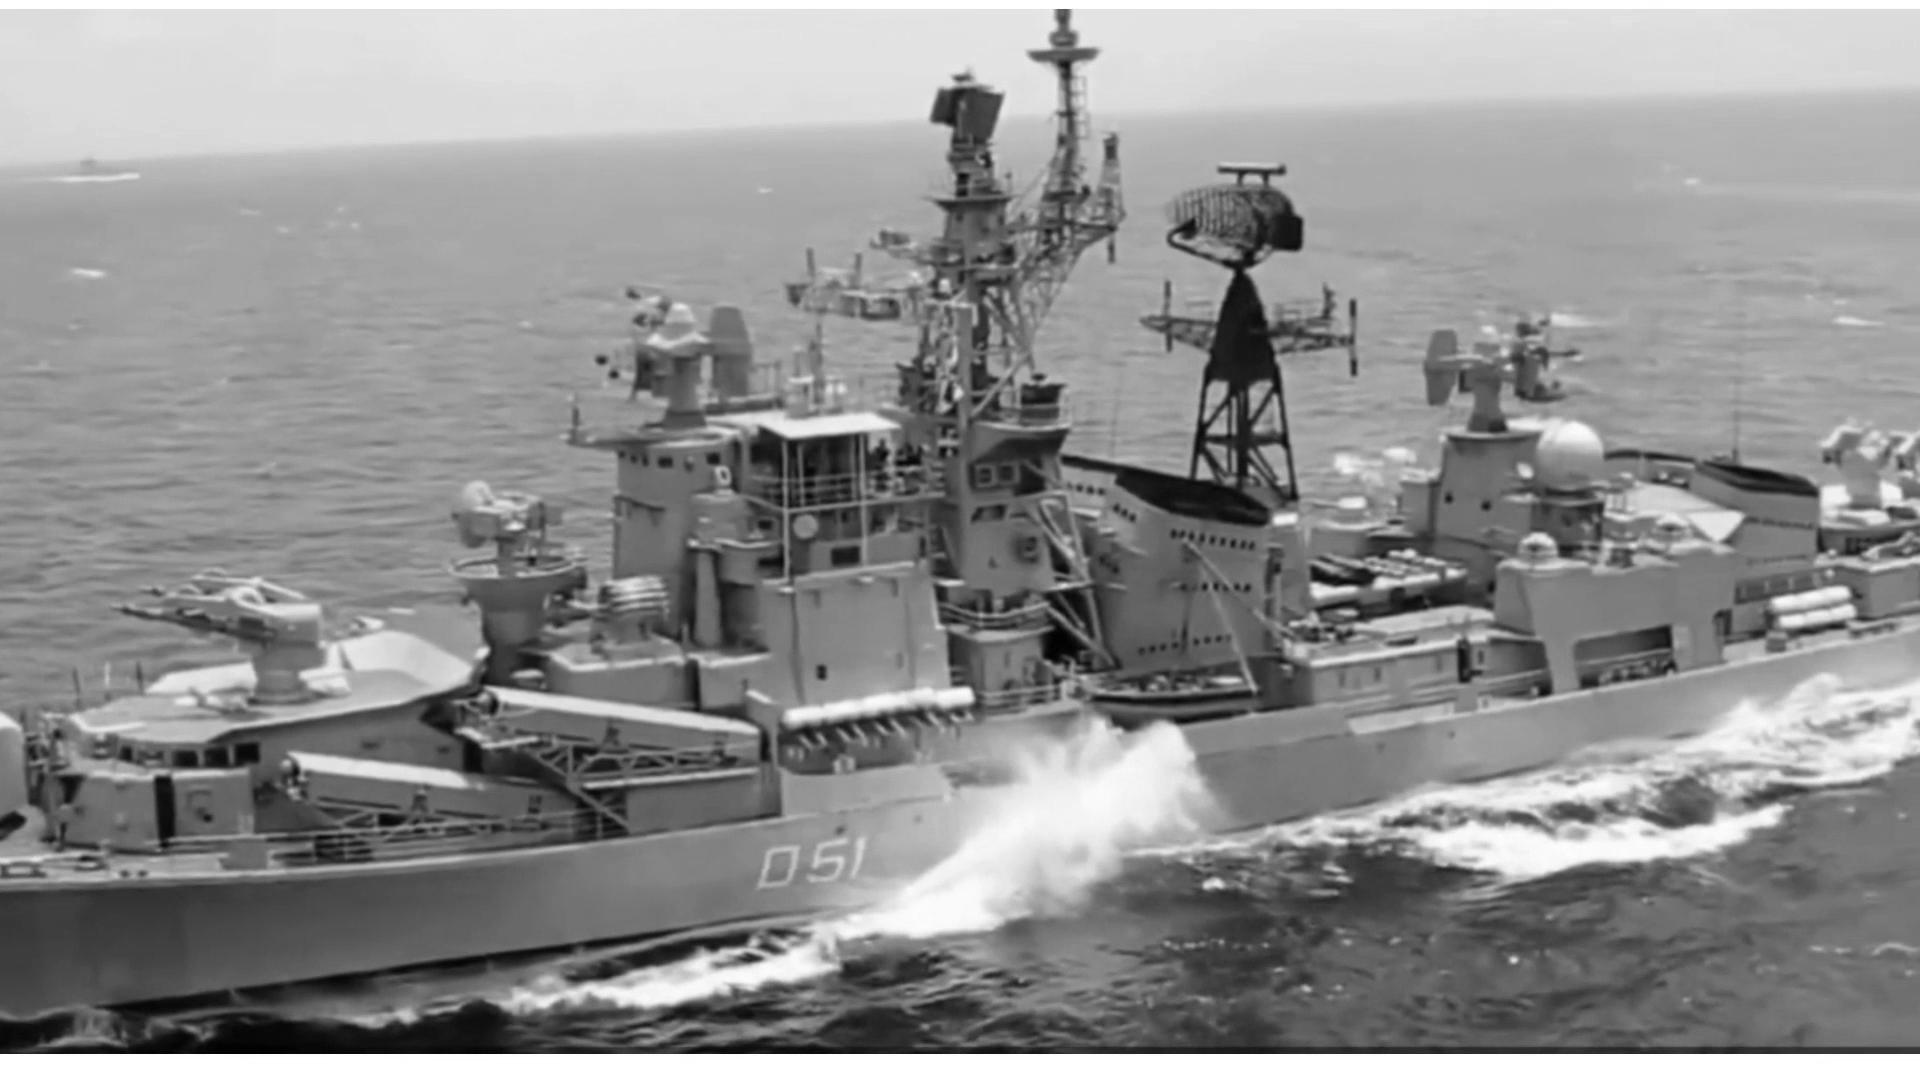OCR: (744, 820, 895, 906)
